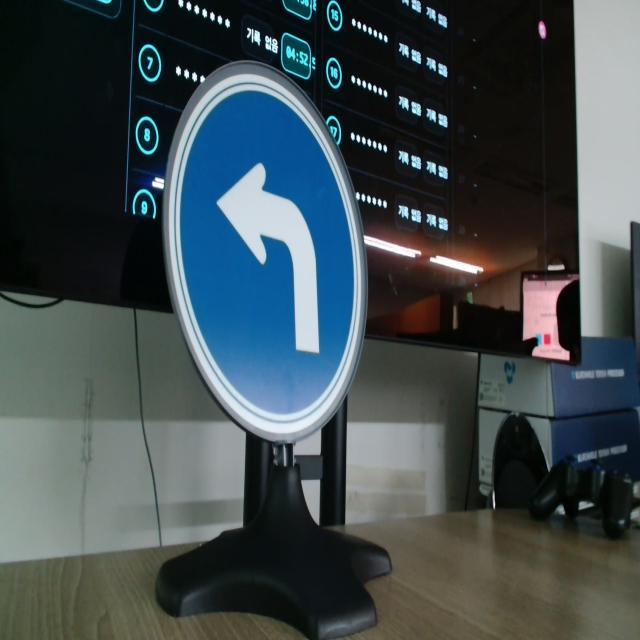left_direction: (159, 44, 375, 446)
